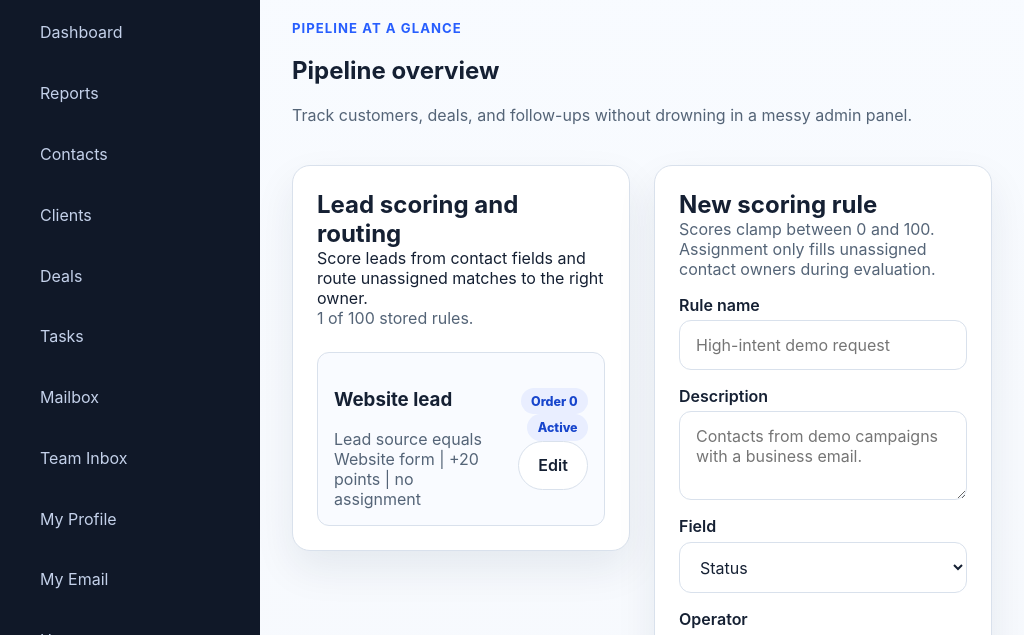
Test: settings lead scoring route › lists users and creates a lead scoring rule
The image size is (1024, 635).
Check: the heading "Lead scoring and routing" is shown, box [317,190,518,248]
Check: the heading "Website lead" is shown, box [334,388,452,410]
In the field labelled "Rule name": (823, 345) [679,320,967,370], type "High-intent demo"
Select "UTM campaign" in the dropdown labelled "Field": (823, 568) [679,542,967,593]
(page scrolled)
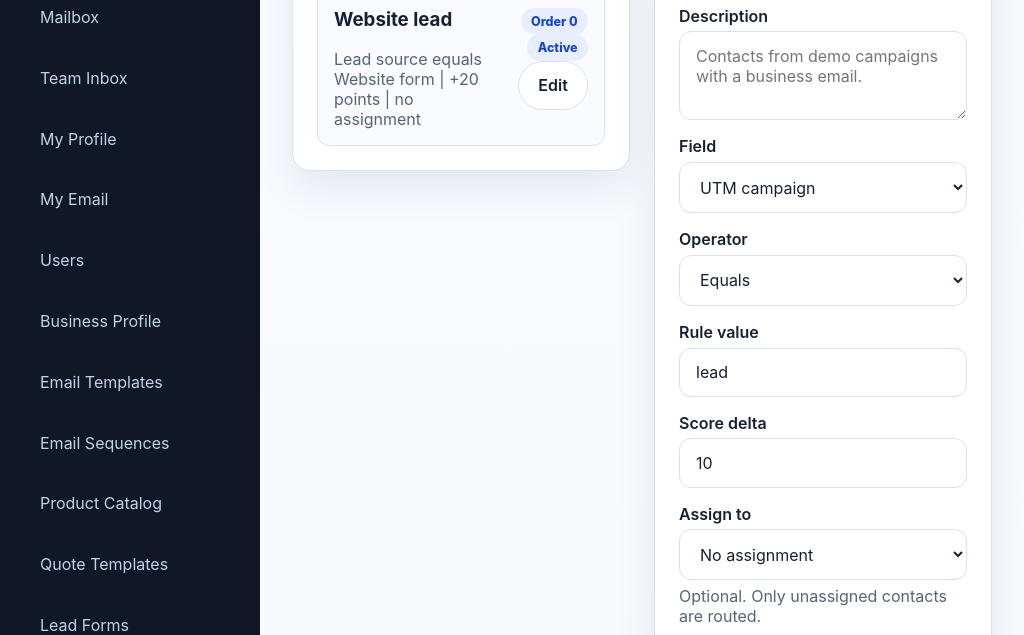
Select "Contains" in the dropdown labelled "Operator": (823, 280) [679,255,967,306]
Replace the text in the field labelled "Rule value" with "demo": (823, 372) [679,348,967,397]
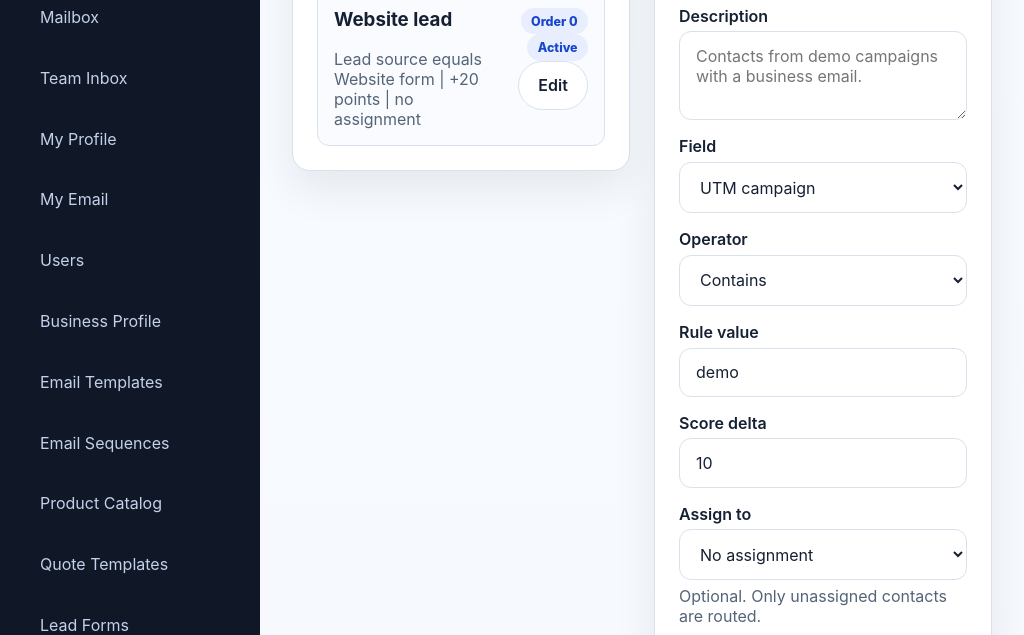
Replace the text in the number field labelled "Score delta" with "30": (823, 463) [679,438,967,488]
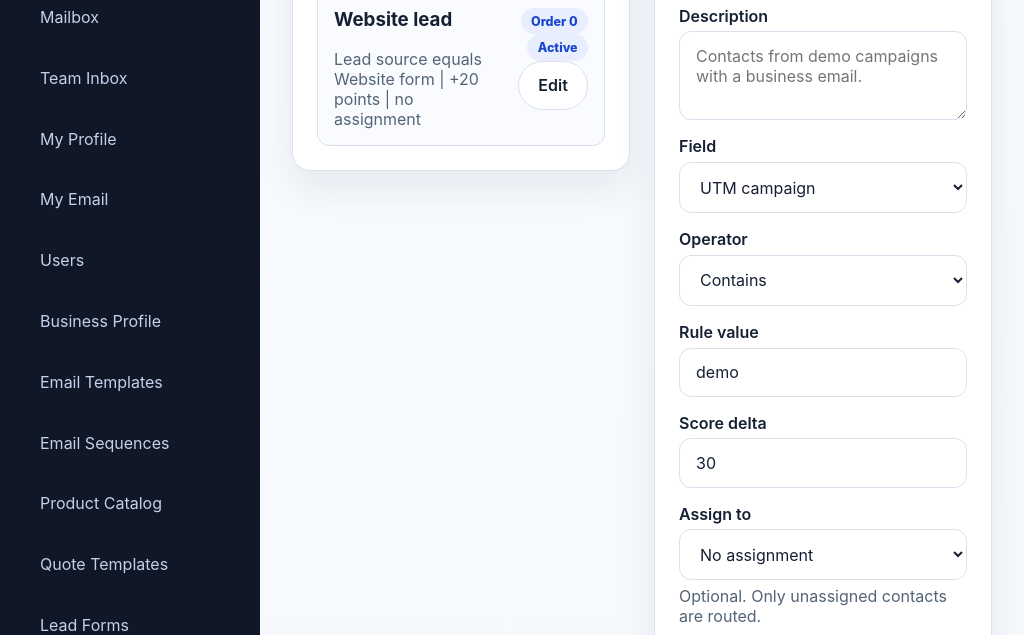
Select "Alex Admin" in the dropdown labelled "Assign to Optional. Only unassigned contacts are routed.": (823, 555) [679,529,967,580]
(page scrolled)
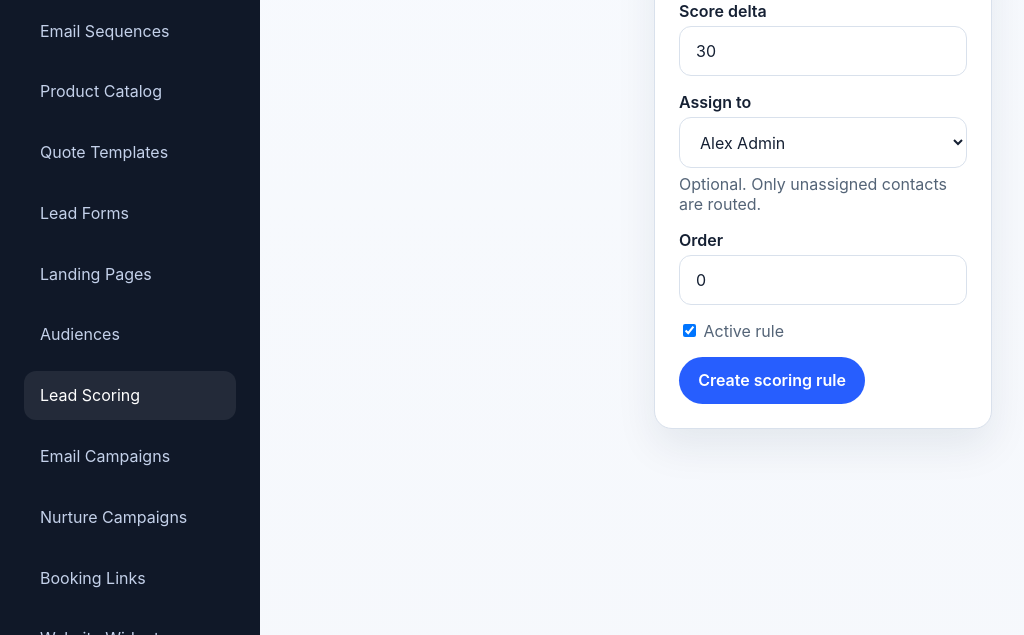
Replace the text in the number field labelled "Order" with "1": (823, 280) [679,256,967,305]
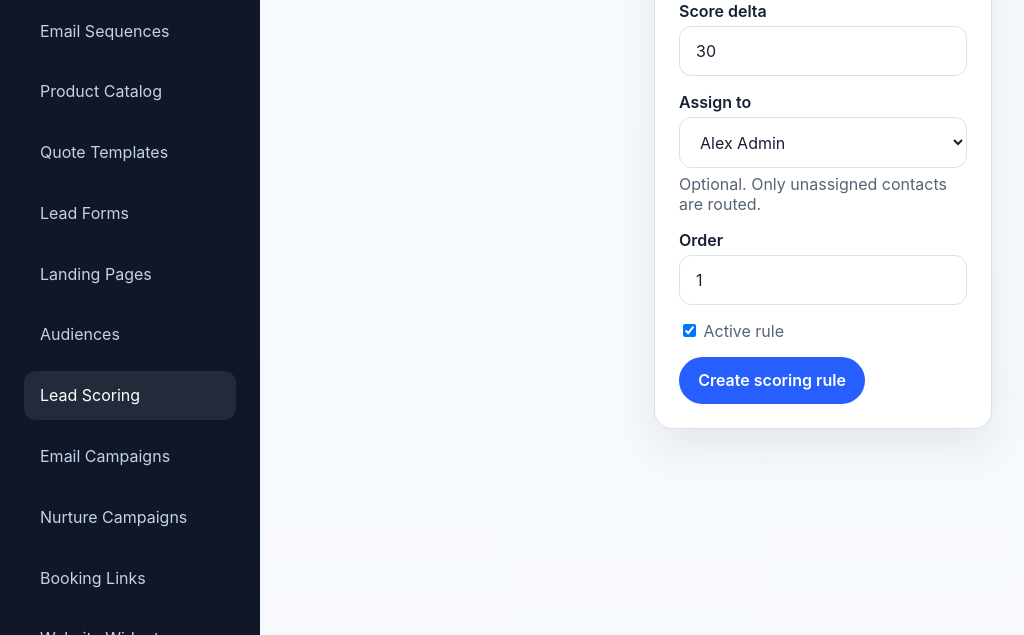
Click the button "Create scoring rule": (772, 380) [679,357,865,404]
(page scrolled)
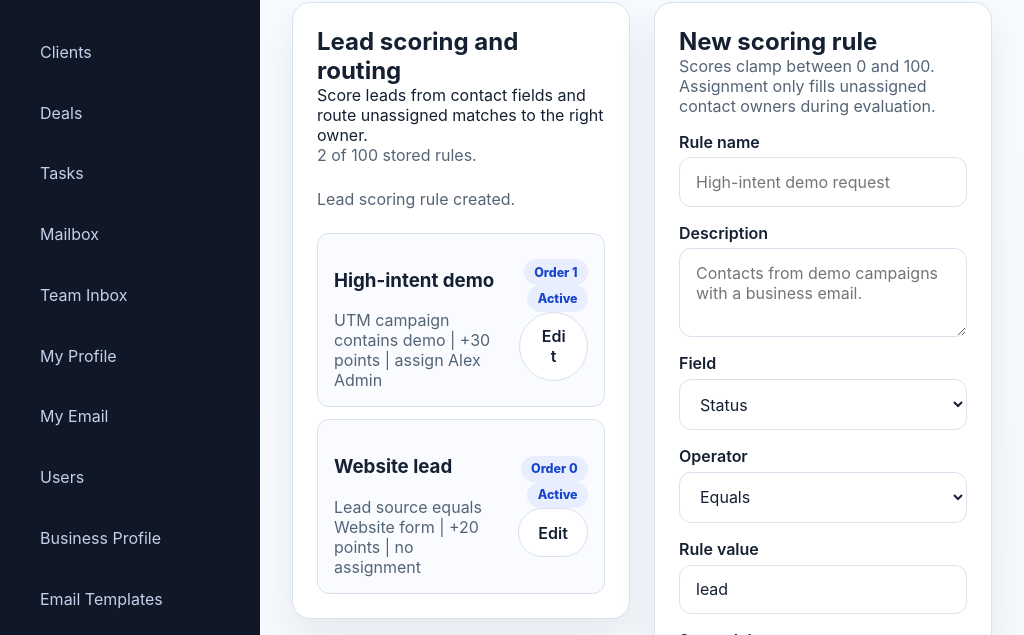
Check: the heading "High-intent demo" is shown, box [334,268,503,292]
